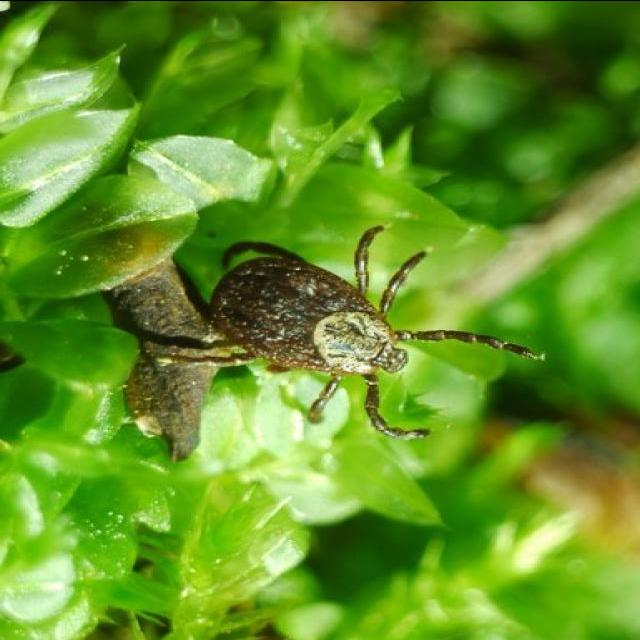Dermacentor Reticulatus-F: (176, 224, 544, 439)
